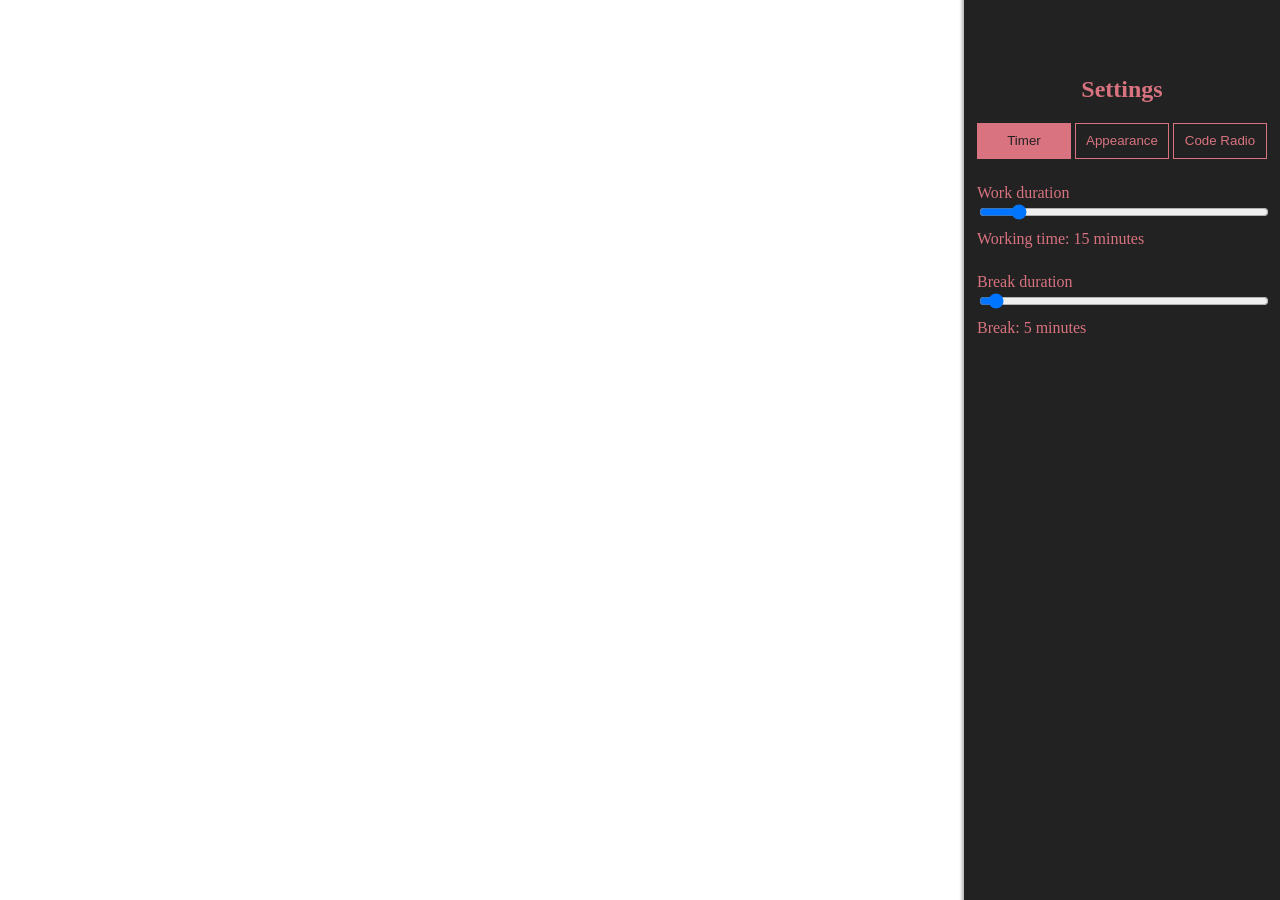
Test case: Settings › shows timer controls in the default tab and separates the other settings
Expected: the slider labelled "Work duration" is shown, [979,204,1269,220]
Expected: the slider labelled "Break duration" is shown, [979,293,1269,309]
What coordinates should you click on to do the following:
click the tab "Appearance"
I would click on:
 (1122, 141)
Its box is [1075,123,1169,159].
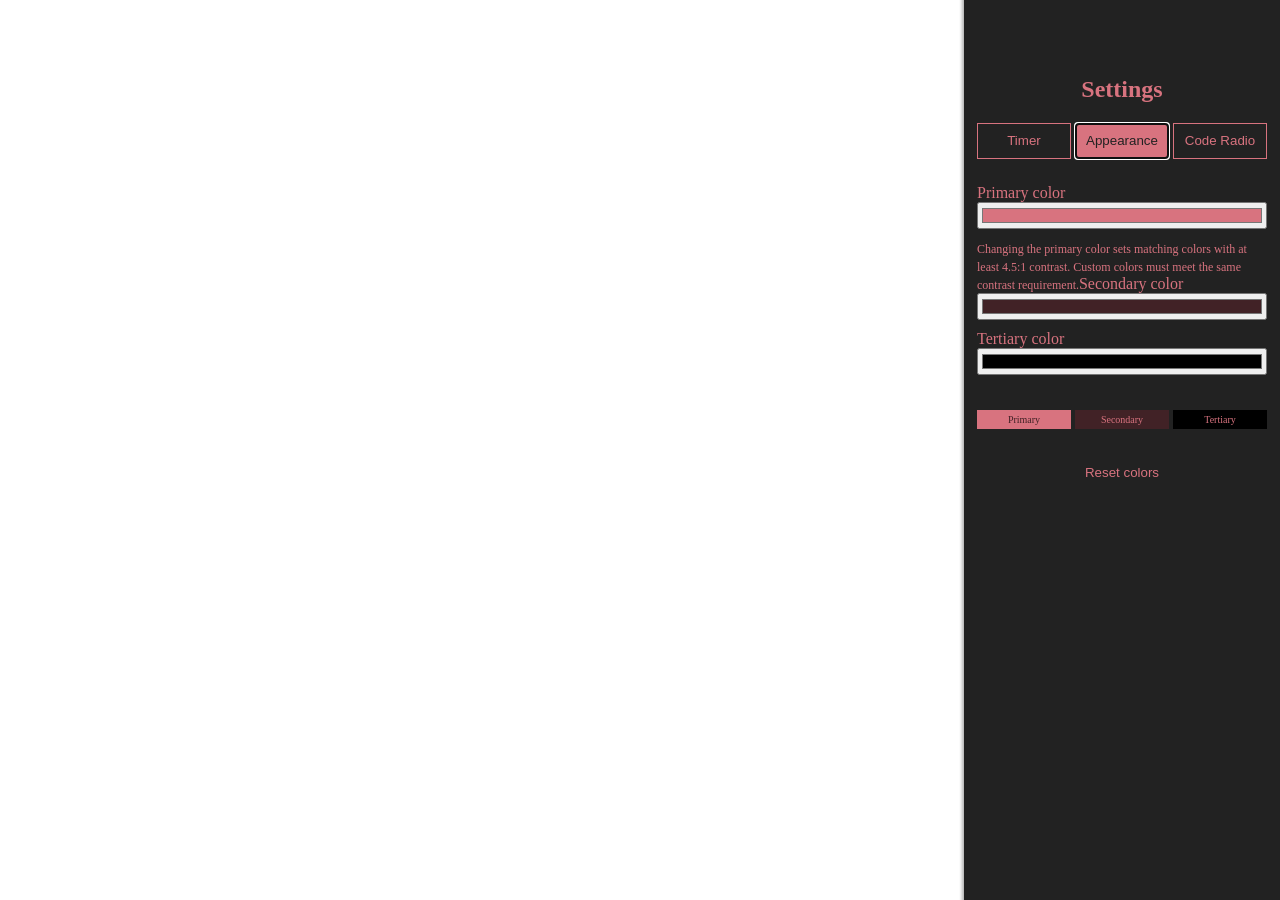
Expected: the colour field labelled "Primary color" is shown, [977,202,1267,229]
Expected: the colour field labelled "Secondary color" is shown, [977,293,1267,320]
Expected: the colour field labelled "Tertiary color" is shown, [977,348,1267,375]
What coordinates should you click on to do the following:
click the tab "Code Radio"
I would click on:
 (1220, 141)
Its box is [1173,123,1267,159].
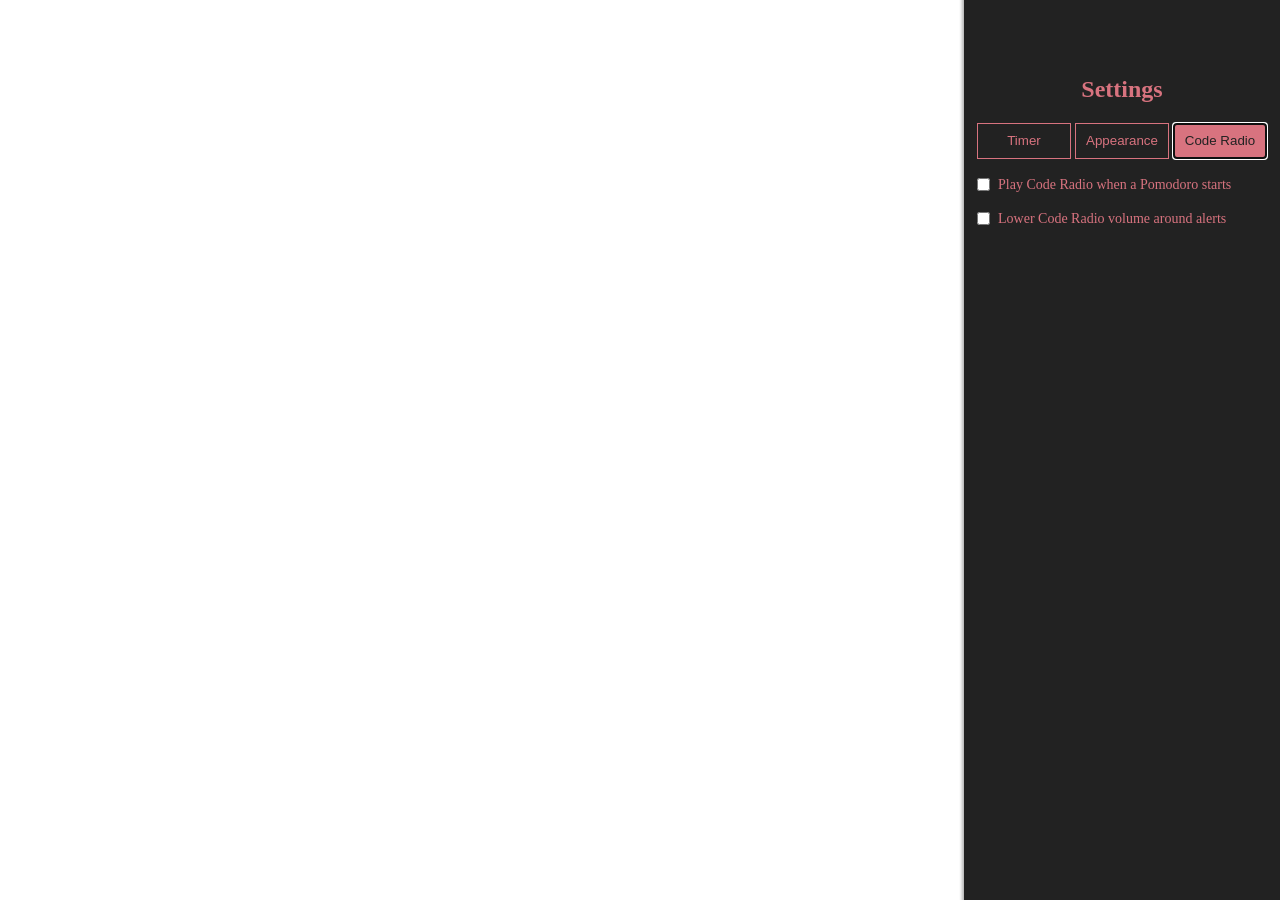
Expected: the checkbox labelled "Play Code Radio when a Pomodoro starts" is shown, [977,178,990,191]
Expected: the checkbox labelled "Lower Code Radio volume around alerts" is shown, [977,212,990,225]
